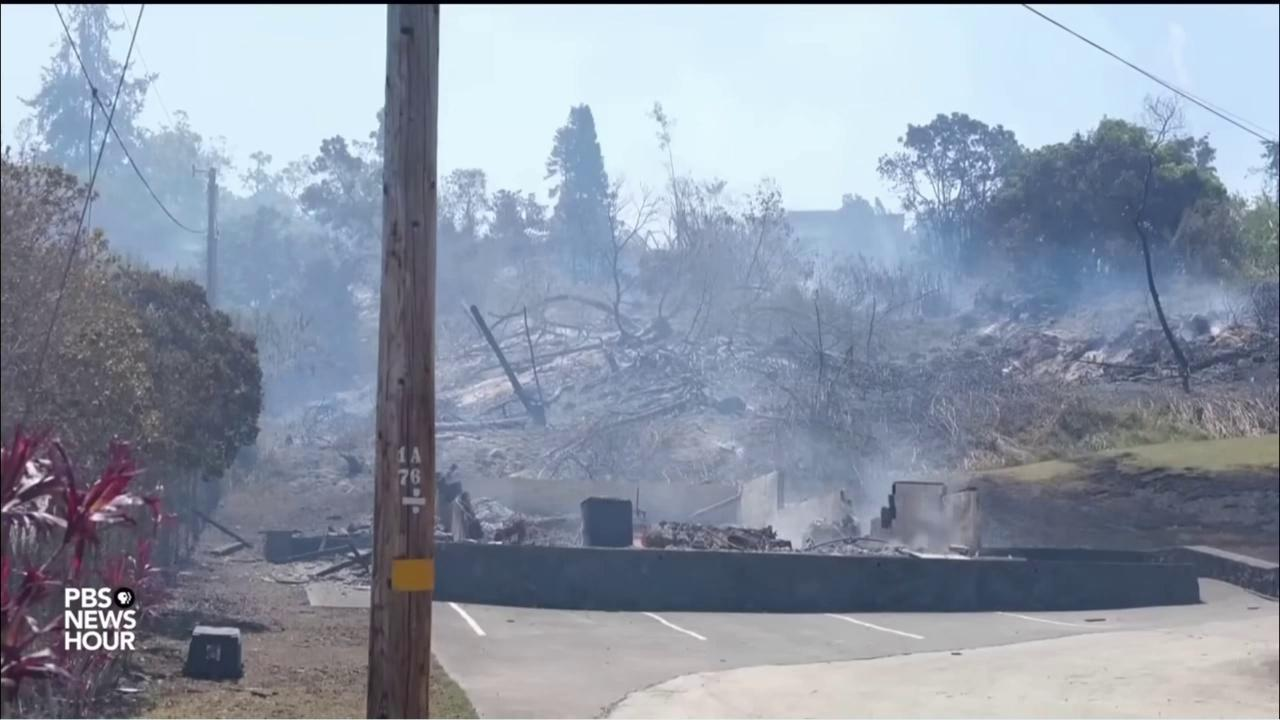smoke: (439, 2, 1254, 554), (0, 4, 389, 431)
